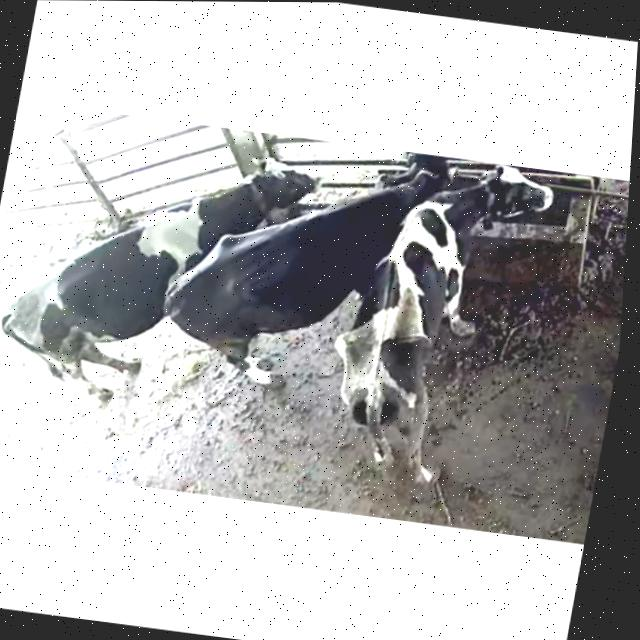drink: (452, 159, 559, 246), (365, 148, 466, 224)
